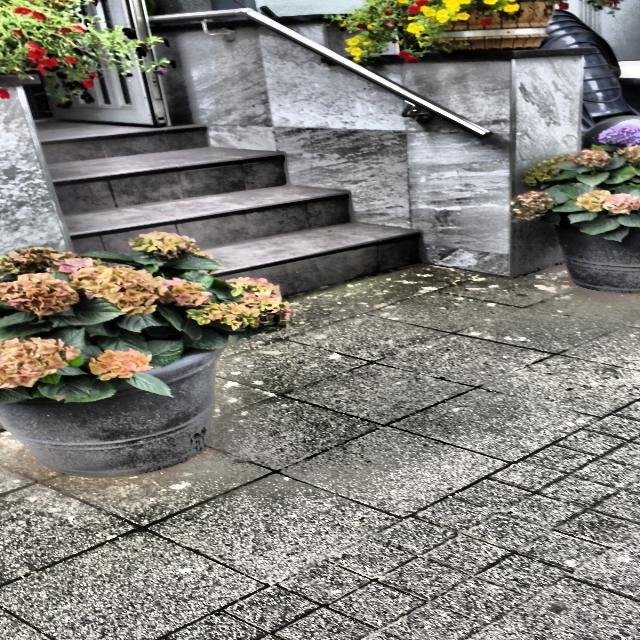escada: (0, 125, 421, 311)
